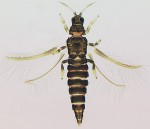Thripidae: (4, 1, 150, 125)
